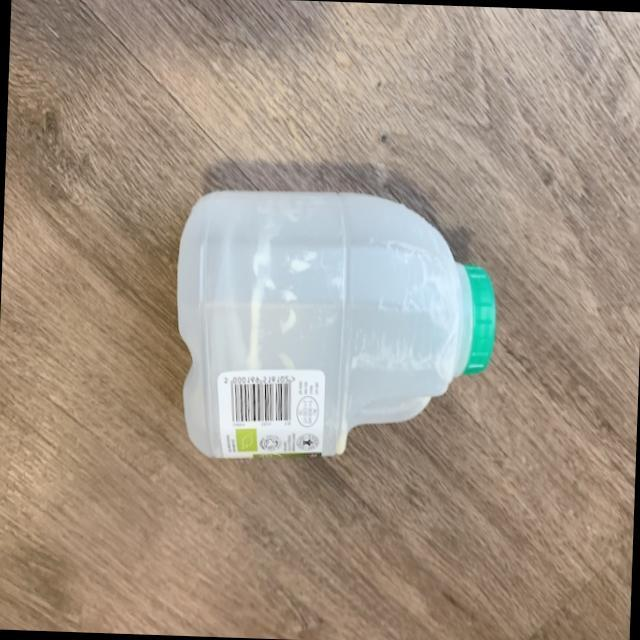HDPE Plastic: (176, 186, 500, 464)
